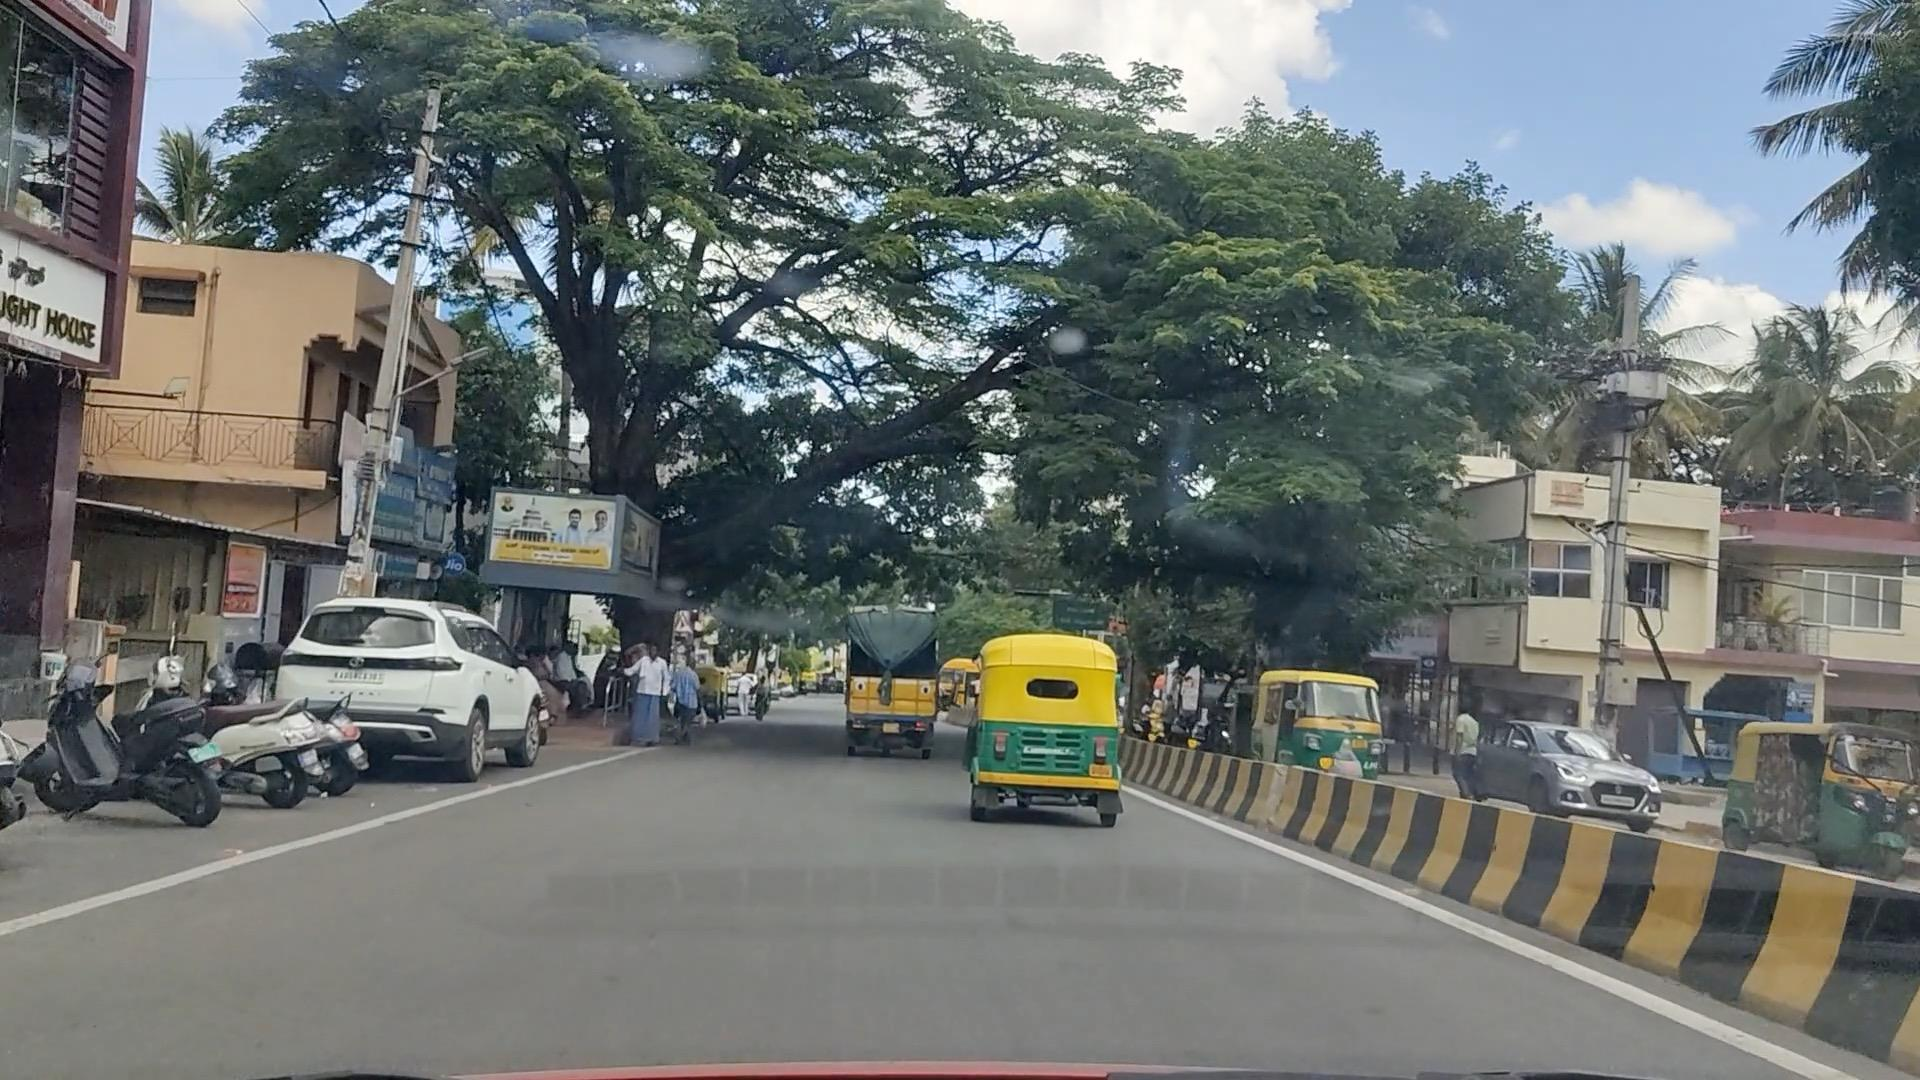HMV: (852, 605, 930, 756)
LMV: (977, 647, 1127, 815)
